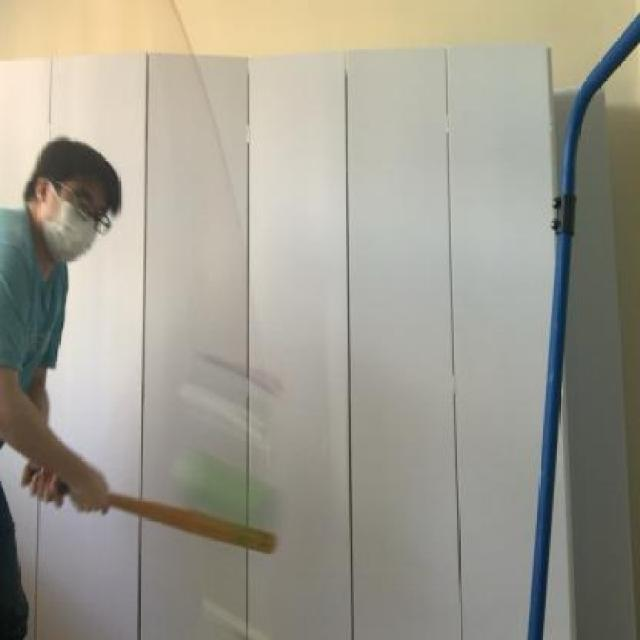baseball: (168, 442, 284, 561)
